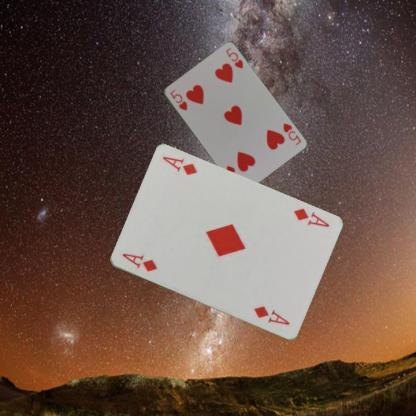5h: (280, 120, 302, 146), (167, 86, 188, 112)
Ad: (290, 205, 330, 229), (119, 251, 158, 273)
